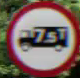Heavy Vehicles: (7, 3, 74, 68)
